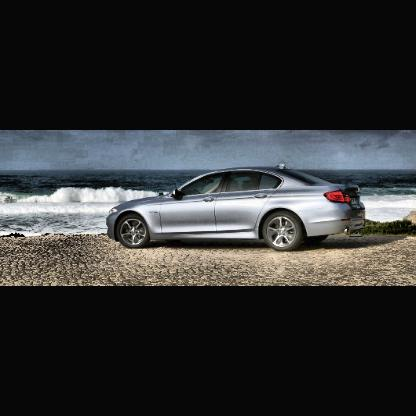BMW ActiveHybrid 5 Sedan 2012: (106, 163, 367, 253)
